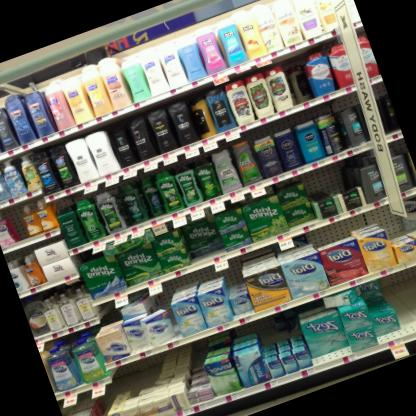empty_space: (275, 49, 317, 106), (384, 264, 416, 335), (8, 204, 31, 242)
